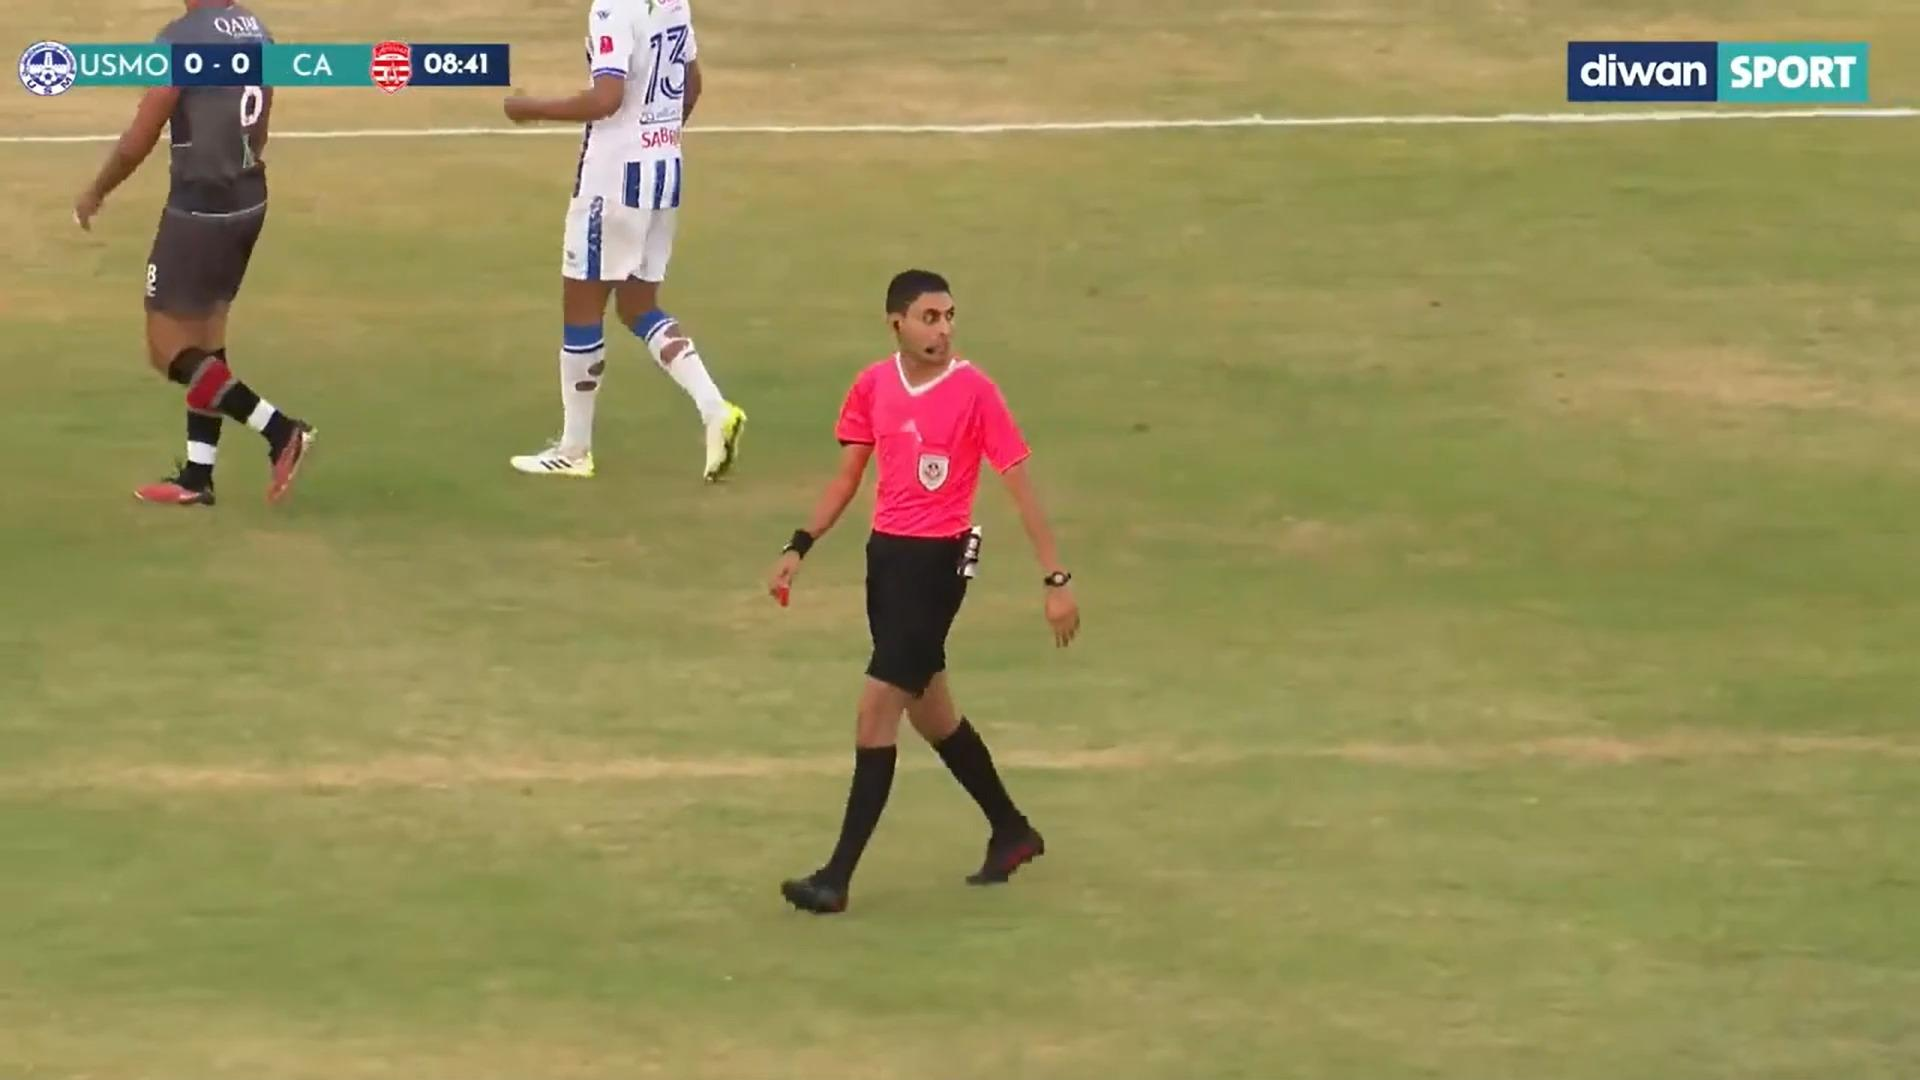referee: (731, 206, 1145, 978)
